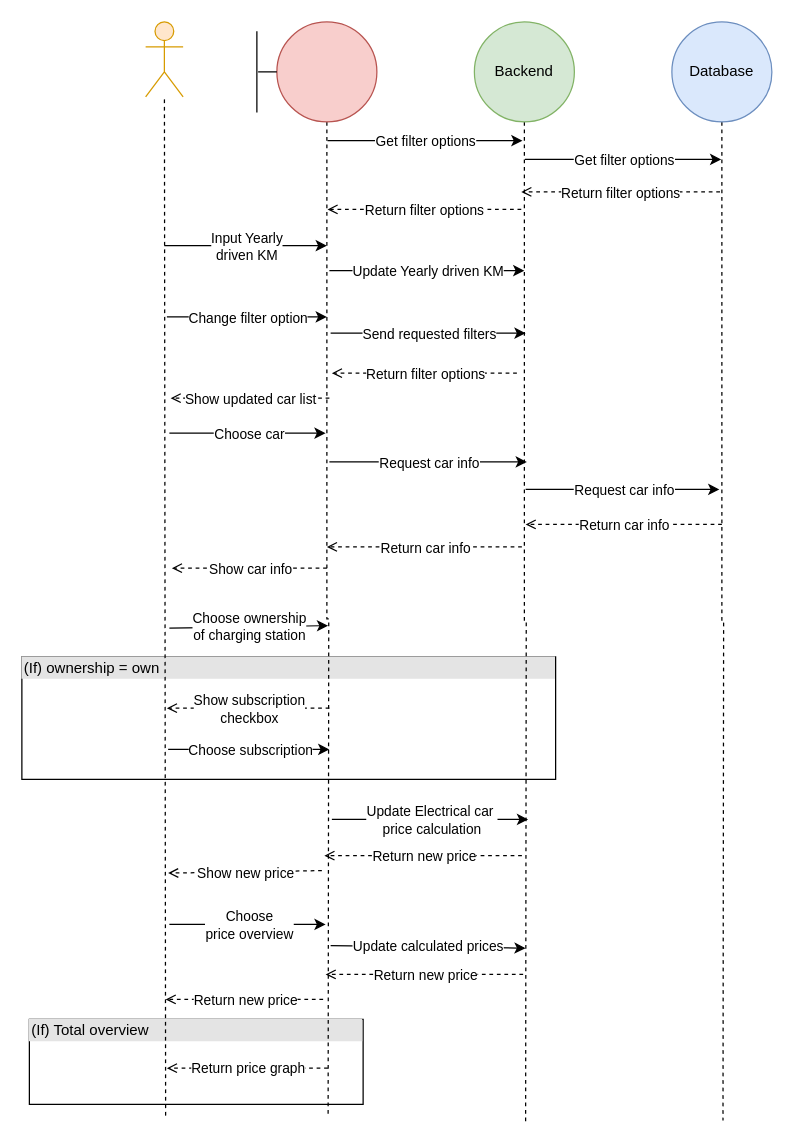
Some shapes in this 794 by 1145 pixel diagram are drawn without their labels. Here are the shapes that lost their labels. From the top down, the box of each, then its label:
(144, 21, 183, 97): Actor
(276, 21, 377, 122): Website
